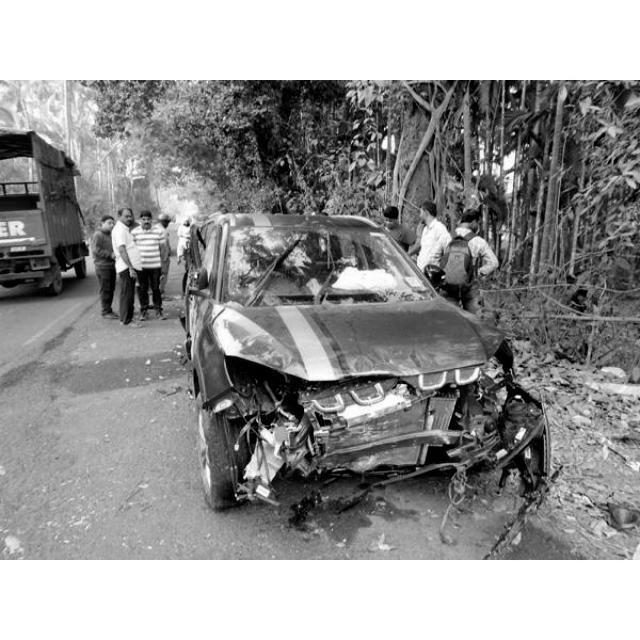front-bumper-dent: (203, 371, 543, 488)
